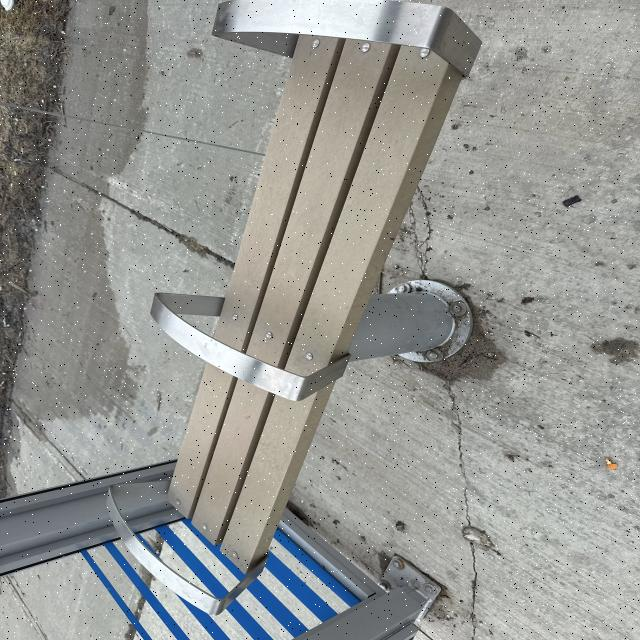Bench: (98, 11, 483, 568)
